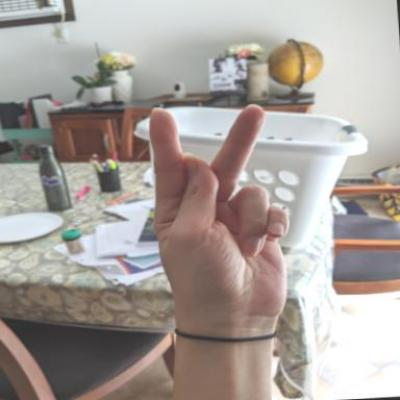hand: (138, 97, 300, 337)
